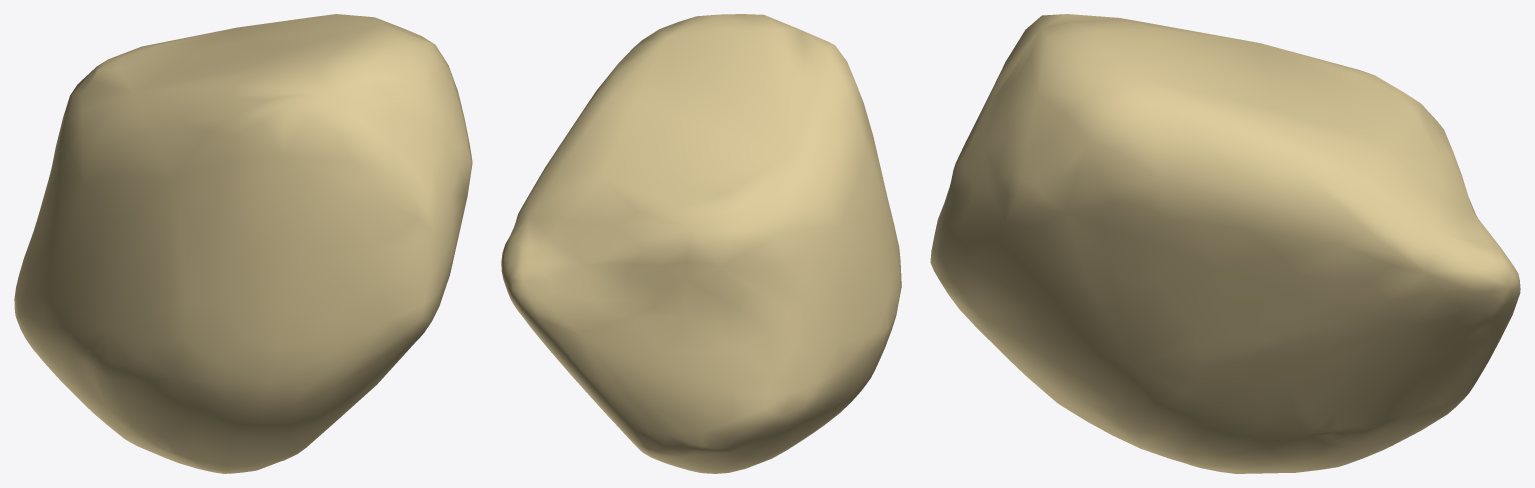
3 renders of one model, left to right at view 1: azimuth 30°, elevation 25°; view 2: azimuth 150°, elevation 25°; view 3: azimuth 270°, elevation 25°, orthographic. The views are drawn at different scales.
Visible parts, largest first — view 1: 右侧豌豆骨; view 2: 右侧豌豆骨; view 3: 右侧豌豆骨.
Part boxes in pixels (box(x1,y1,x2,y2)): 右侧豌豆骨: box(14, 14, 472, 473); 右侧豌豆骨: box(501, 14, 901, 473); 右侧豌豆骨: box(930, 14, 1520, 473).
Bounding box in the file's own units: 0.0125 × 0.0154 × 0.0178.
